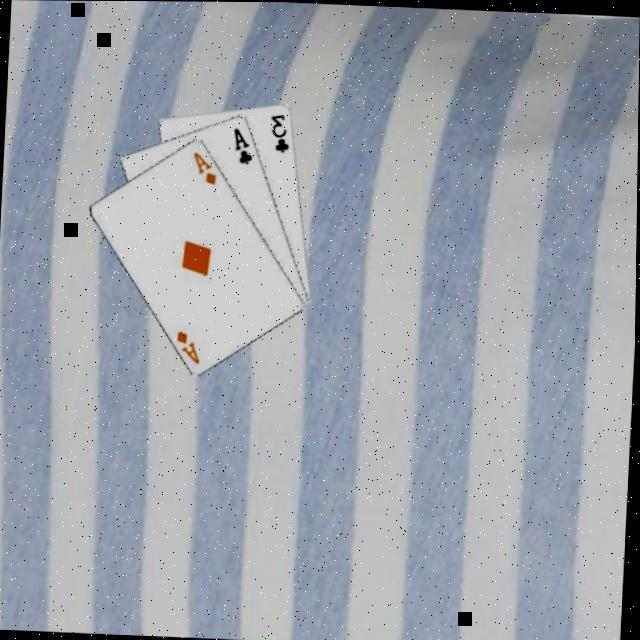3C: (266, 108, 292, 152)
AC: (228, 122, 256, 164)
AD: (172, 324, 203, 364), (188, 146, 219, 184)
